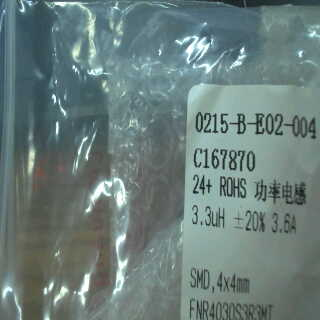3.3uH: (189, 202, 227, 230)
